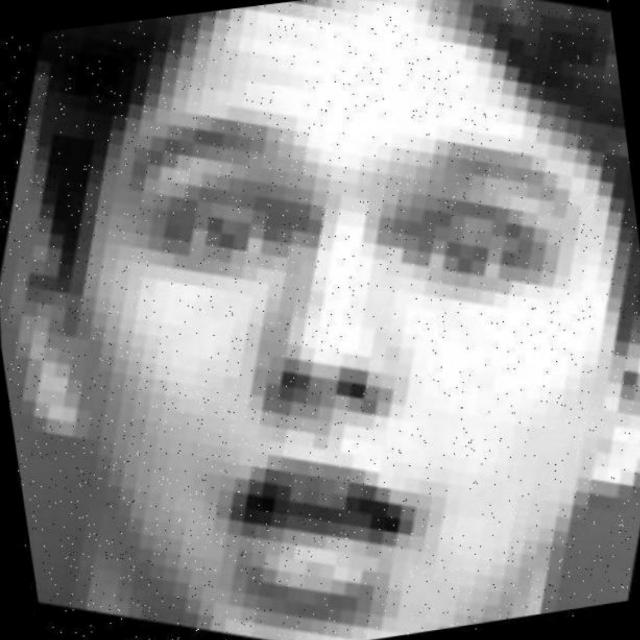Surprised: (9, 46, 640, 640)
